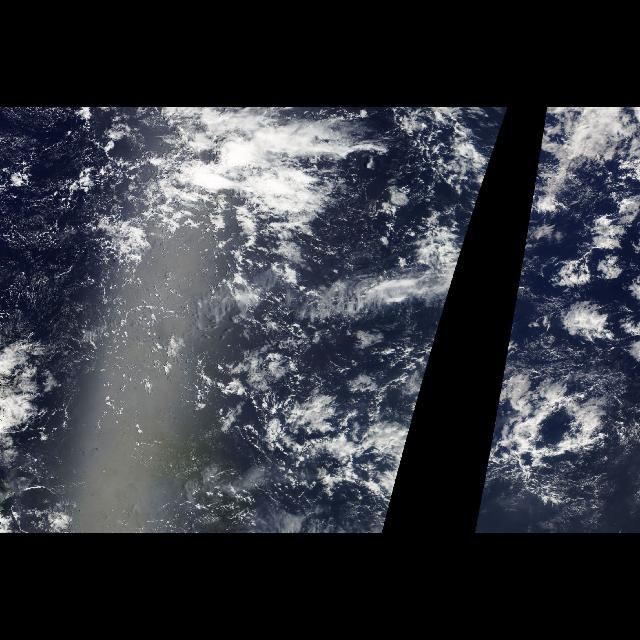Sugar: (1, 107, 120, 339)
